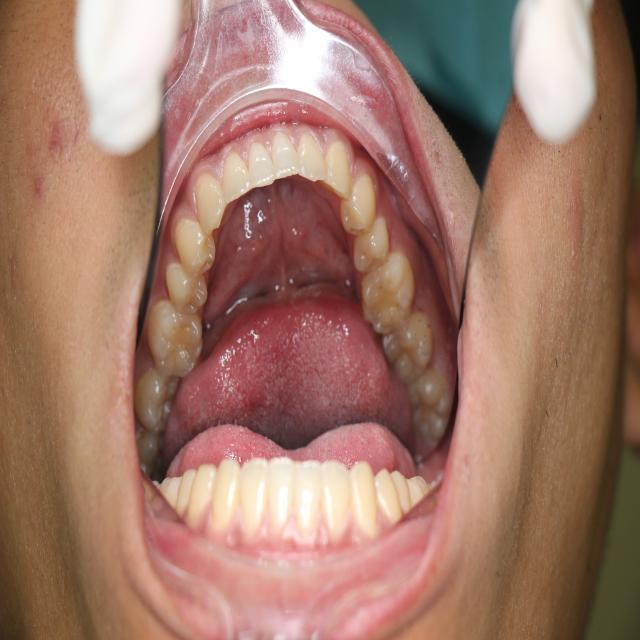tooth: (142, 295, 208, 382), (354, 248, 418, 336), (376, 310, 436, 388), (404, 366, 455, 454), (132, 355, 183, 438), (346, 208, 393, 277), (173, 211, 218, 281), (162, 258, 210, 317), (190, 168, 229, 239), (339, 169, 378, 240), (129, 422, 169, 480), (319, 137, 352, 202), (296, 128, 329, 190), (219, 150, 254, 208), (247, 137, 278, 193), (270, 128, 302, 182)
